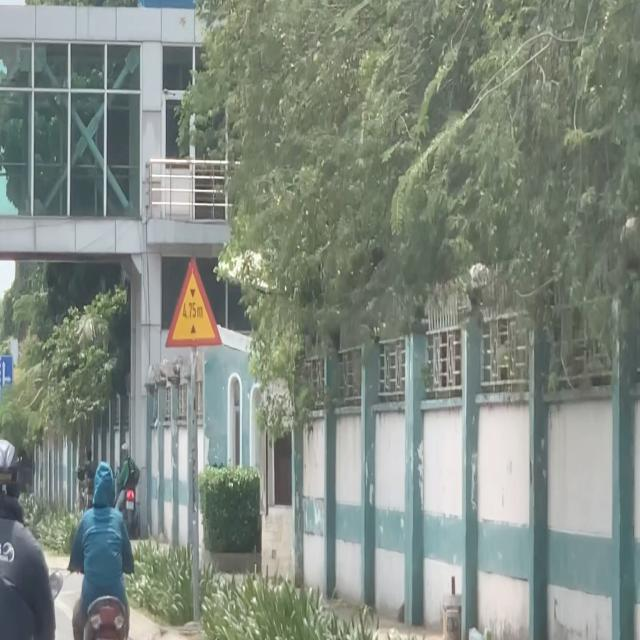Nguy hiem: (165, 255, 223, 348)
